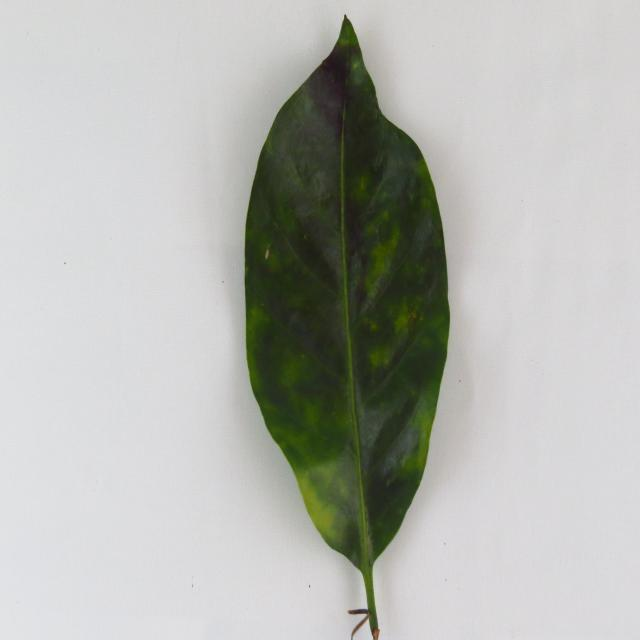DeficienciaNutricional-Magnesio: (245, 18, 450, 638)
